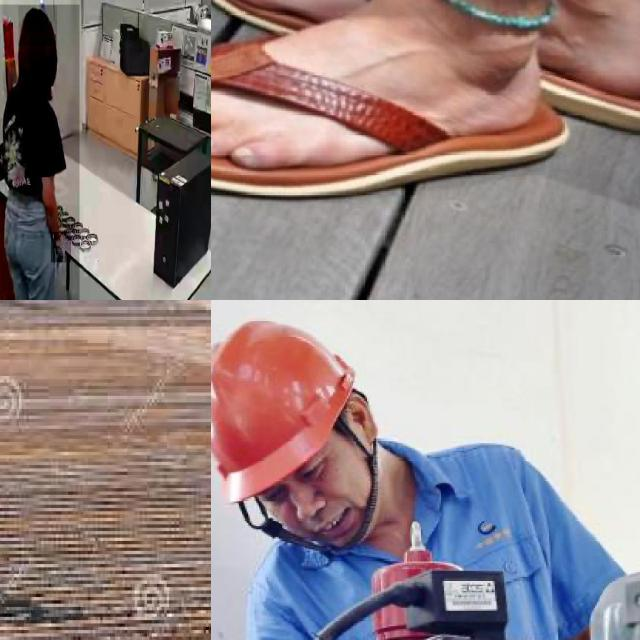No_Ear-Protection: (345, 390, 381, 448)
No_Glasses: (259, 447, 341, 511)
Sandals: (211, 0, 576, 209)
face_nomask: (277, 448, 371, 551)
hand_glove: (51, 232, 71, 263)
head_helmet: (211, 320, 354, 502)
head_nohelmet: (18, 6, 58, 46)
person: (0, 4, 80, 300)
